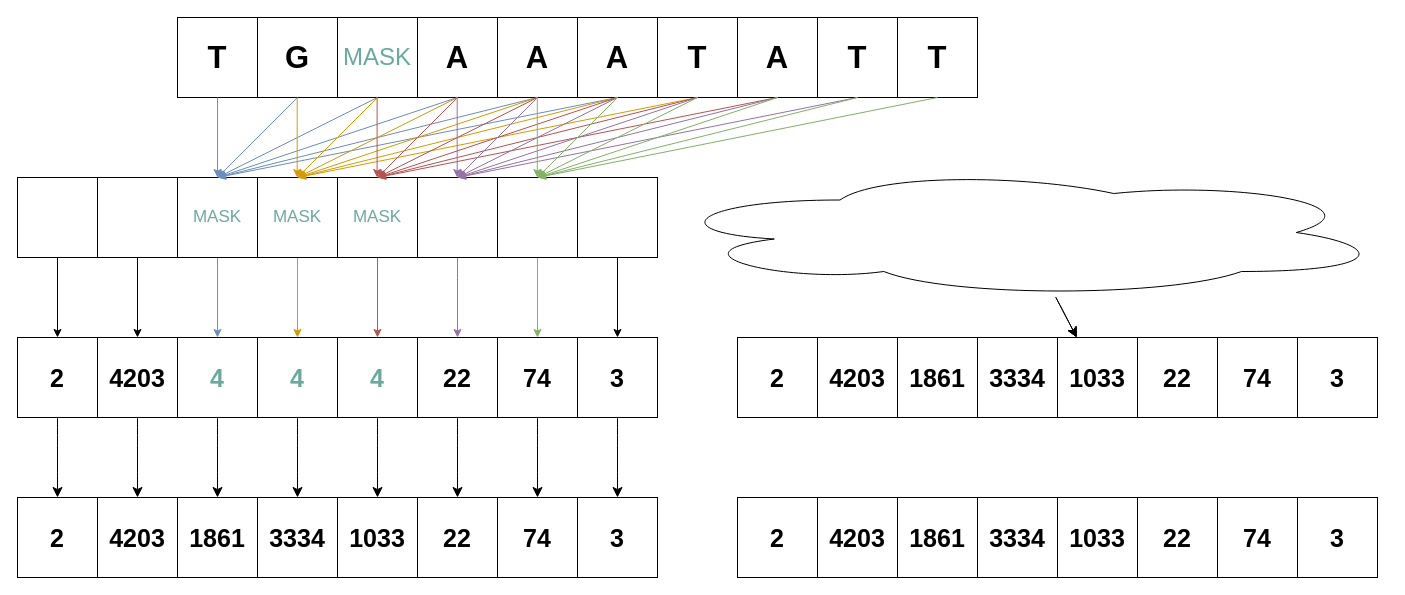
The diagram is 1405 pixels wide and 595 high, and some of its shapes have lost their labels. The shapes that lost their labels are listed below. From the top down, each one's box as (x1, y1, x2, y2) in pixels, then its label:
(16, 176, 98, 258): [CLS]
(96, 176, 178, 258): botrytis_ porri_gca_ 004786265
(416, 176, 498, 258): AAATAT
(496, 176, 578, 258): AATATT
(576, 176, 658, 258): [SEP]
(656, 166, 1388, 298): BERT
